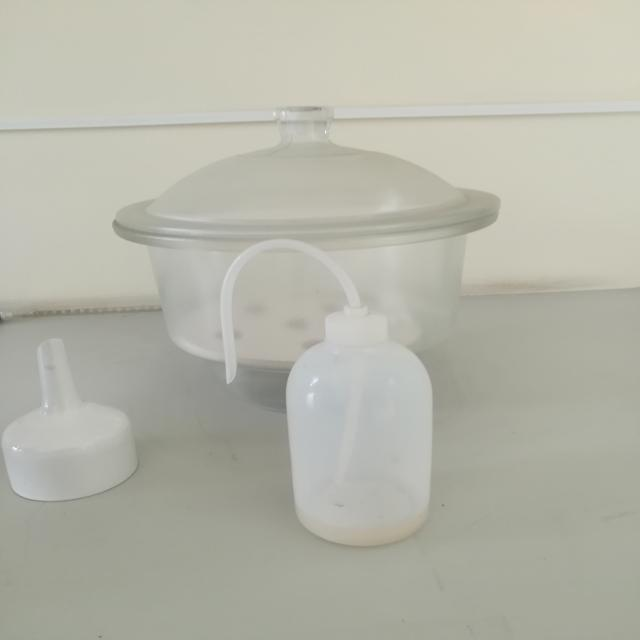Buchner_Funnel: (0, 292, 148, 531)
Wash_Bottle: (198, 208, 483, 563)
